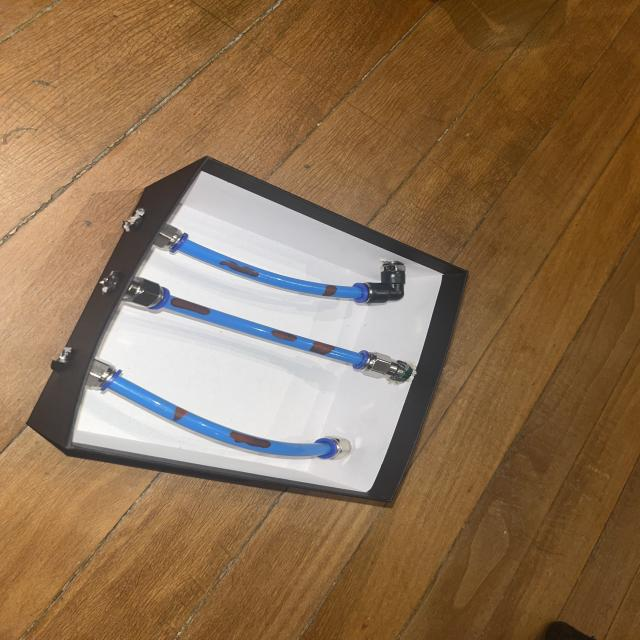hose_damage: (224, 428, 275, 454), (166, 295, 215, 317), (216, 258, 263, 280), (306, 340, 339, 359), (268, 327, 301, 345), (169, 403, 192, 425), (320, 284, 341, 298)
